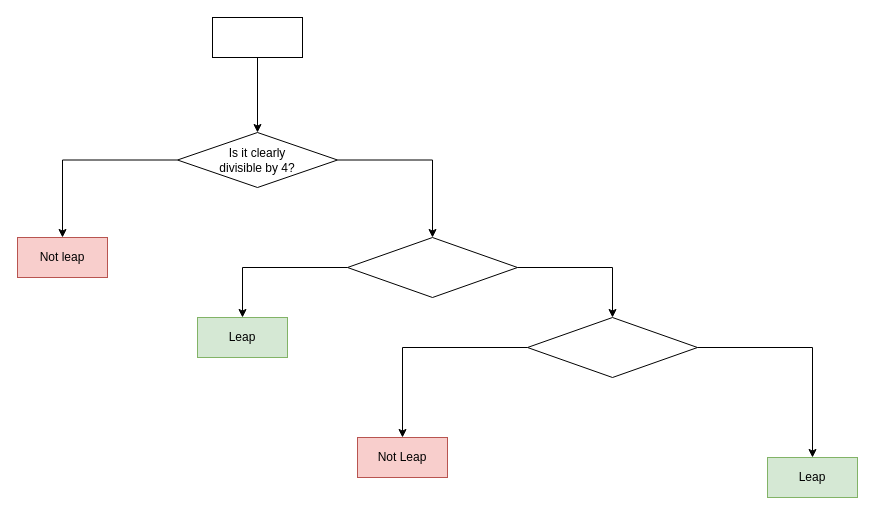
The diagram is 875 pixels wide and 515 high, and some of its shapes have lost their labels. Here are the shapes that lost their labels. From the top down, the box of each, then its label:
(212, 16, 302, 58): Start
(346, 236, 518, 298): Is it clearly divisible by 100?
(526, 316, 698, 378): Is it clearly divisible by 400?
